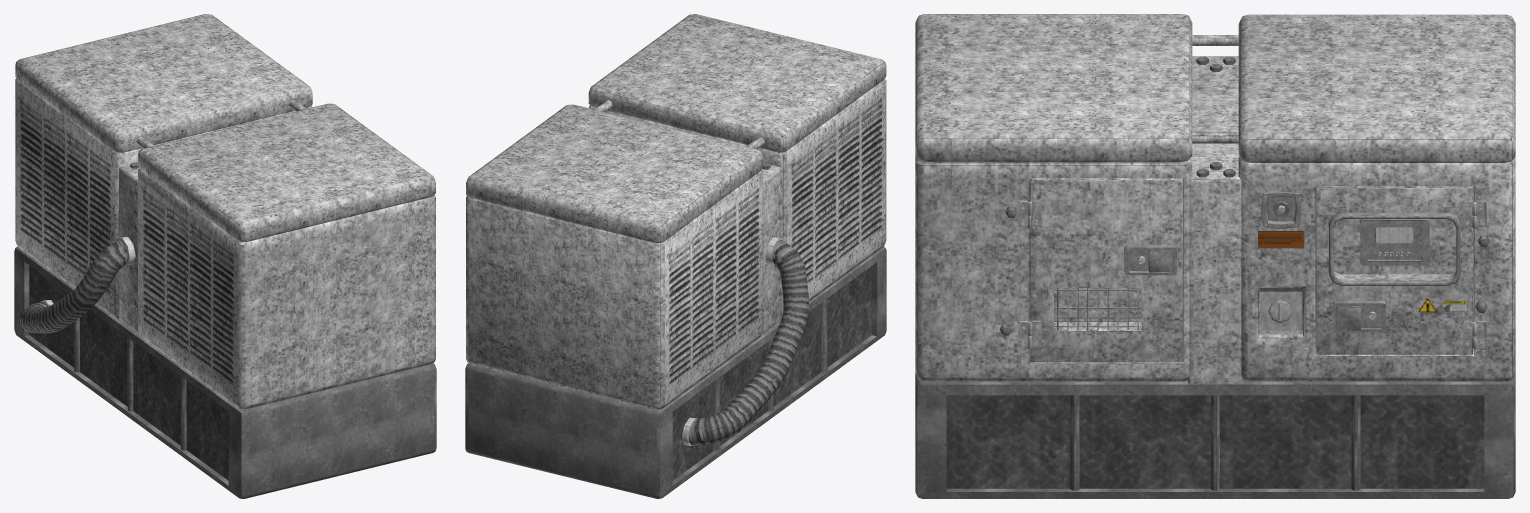
Rendered from generator.fbx.
3 views of the same model, side by side, from view 1: azimuth 30°, elevation 25°; view 2: azimuth 150°, elevation 25°; view 3: azimuth 270°, elevation 25° (orthographic). The views are drawn at different scales.
Parts seen in each view (by area): view 1: Generator_Cube.001_Cube.001; view 2: Generator_Cube.001_Cube.001; view 3: Generator_Cube.001_Cube.001.
Boxes of the visible parts, bbox=[...] form: Generator_Cube.001_Cube.001: bbox=[14, 14, 436, 498]; Generator_Cube.001_Cube.001: bbox=[465, 14, 886, 498]; Generator_Cube.001_Cube.001: bbox=[915, 14, 1515, 498].
Bounding box in the file's own units: 2308 × 2440 × 3644.
